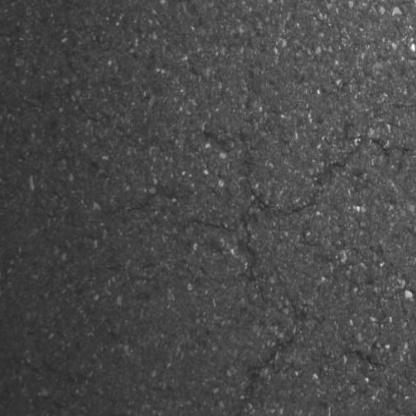Cracks: (177, 126, 416, 274), (224, 256, 309, 416), (346, 347, 392, 373)
